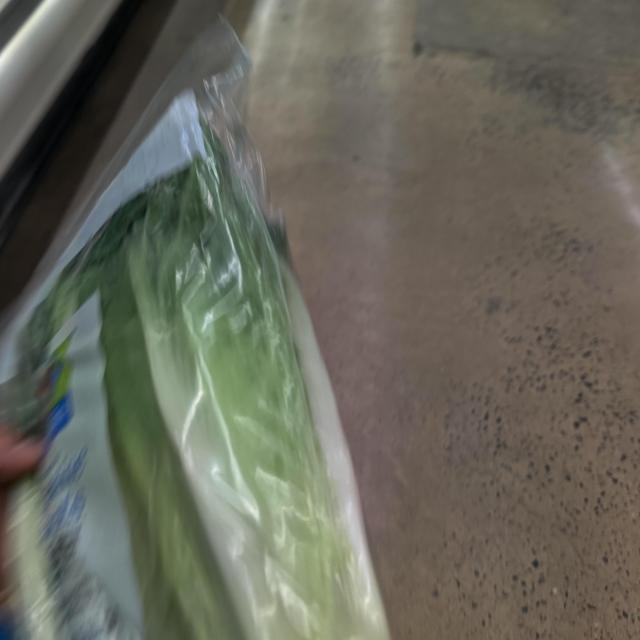Lettuce: (0, 81, 436, 640)
